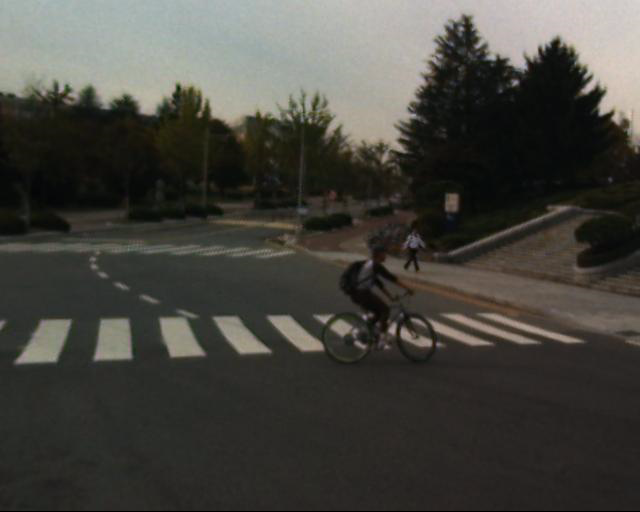person: (338, 242, 389, 335), (399, 222, 419, 276)
